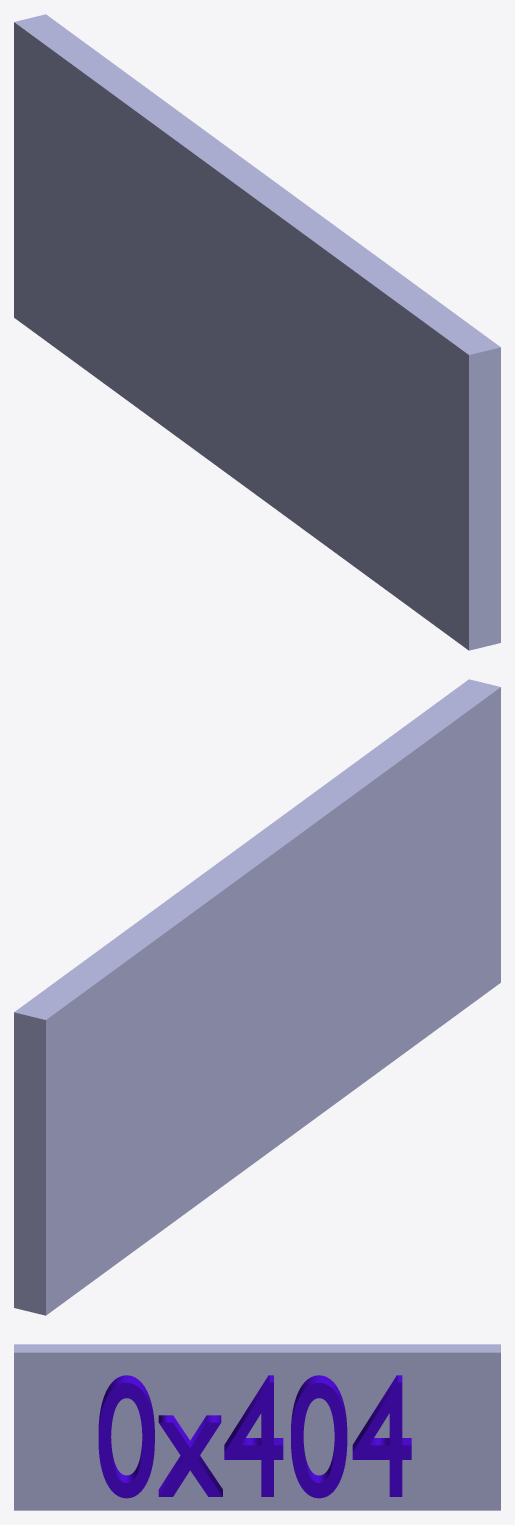
3 renders of one model, top to bottom at view 1: azimuth 30°, elevation 25°; view 2: azimuth 150°, elevation 25°; view 3: azimuth 270°, elevation 25°, orthographic. The views are drawn at different scales.
Parts seen in each view (by area): view 1: Cube; view 2: Cube; view 3: Cube, Text.
Part boxes in pixels (x1,y1,x2,y2): Cube: (14, 14, 500, 650); Cube: (14, 679, 500, 1315); Cube: (14, 1344, 500, 1510); Text: (98, 1375, 411, 1498).
Size of the model in its own units: 2.65 by 12.33 by 34.39.
